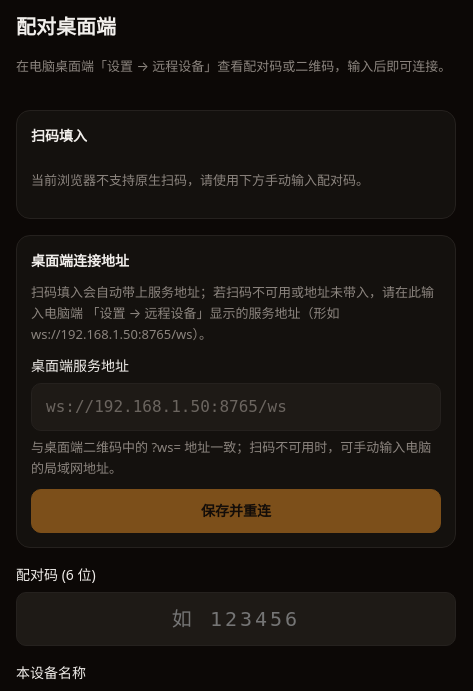
Test: PairPage 桌面端地址与扫码 › 壳内保存合法地址：规范化后写入并立即用新地址重连
The width and height of the screenshot is (473, 691).
In the field with test id "ws-address-input" showing "桌面端服务地址": {"x": 236, "y": 407} [31,383,441,431], type "  ws://10.0.0.5:8765/ws  "
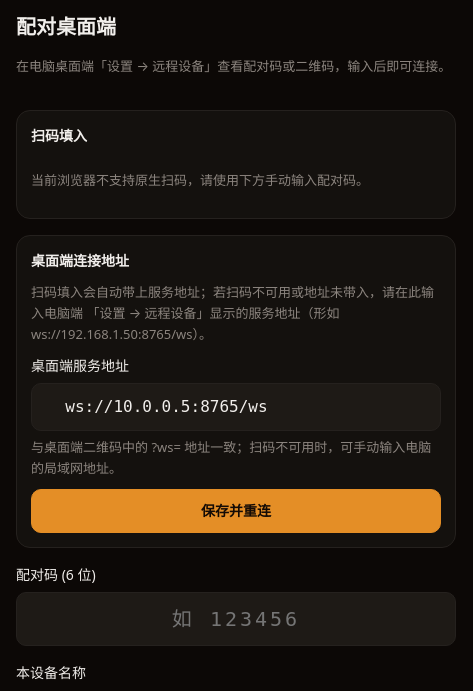
Click the button with test id "btn-save-ws-address": {"x": 236, "y": 511} [31,489,441,533]
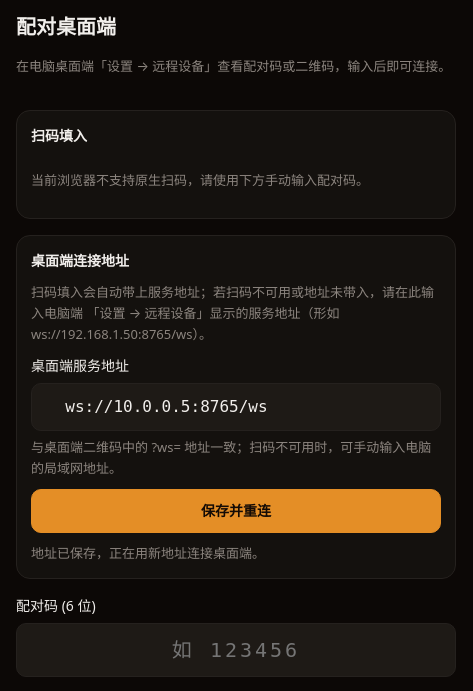
Result: the text with test id "ws-address-saved" shows "地址已保存" at [31,544,265,562]
